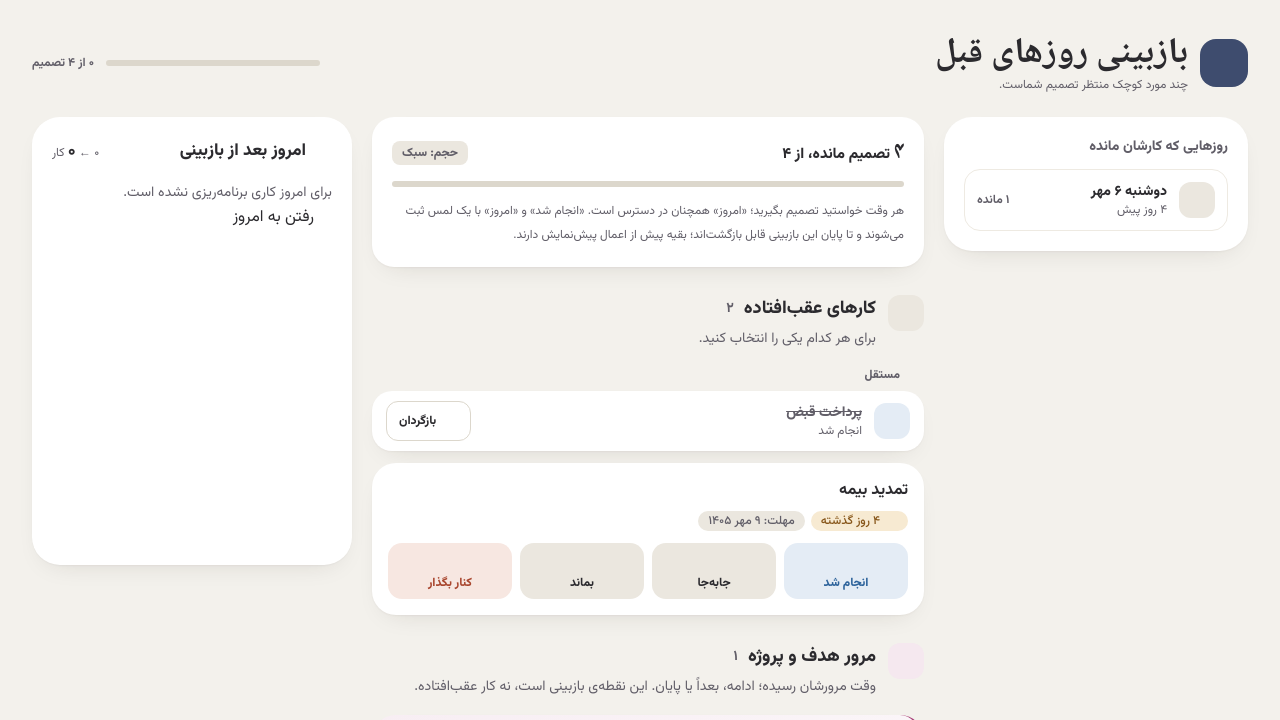
ReconcilePage › explains a refused undo and never offers «امروز» where the deadline has passed
Check: the button with aria-label "انجام شد: تمدید بیمه" is shown, box [784,543,908,599]
Click the button with aria-label "بازگردان: پرداخت قبض".
click(429, 421)  # box [386,401,471,441]
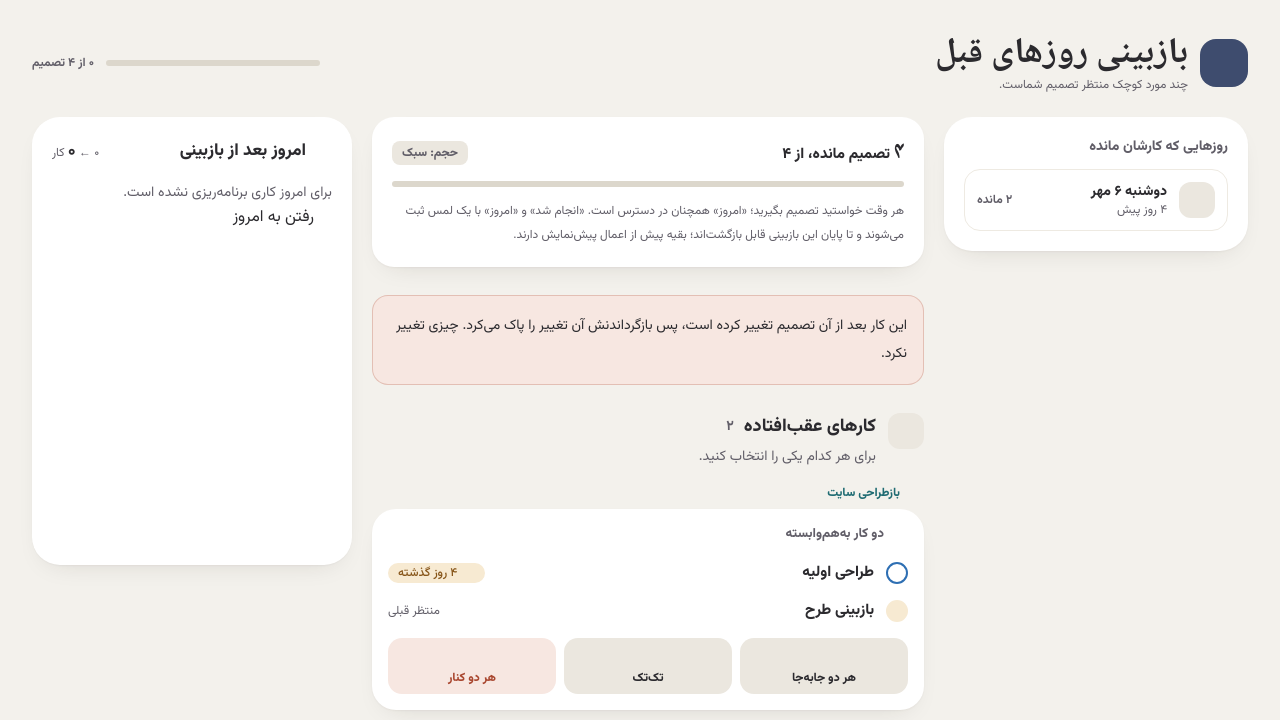
Check: the message shows "این کار بعد از آن تصمیم تغییر کرده است", box [396,315,907,365]
